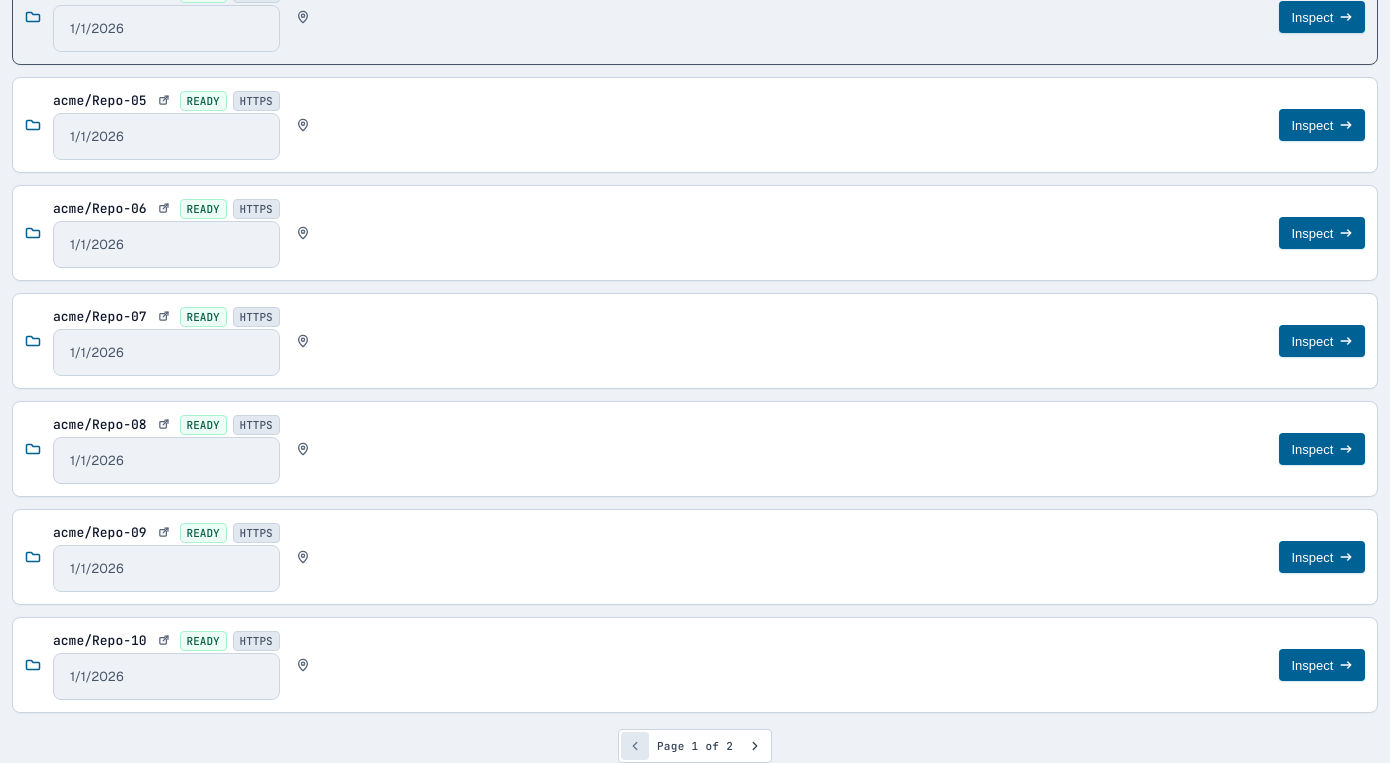
Test: ProjectList › paginates ten projects per page
(page scrolled)
Expected: the text "Page 1 of 2" is shown, [657,739,733,753]
What coordinates should you click on to do the following:
click the button named "Next page"
I would click on:
 (755, 746)
Its box is [741,732,769,760].
(page scrolled)
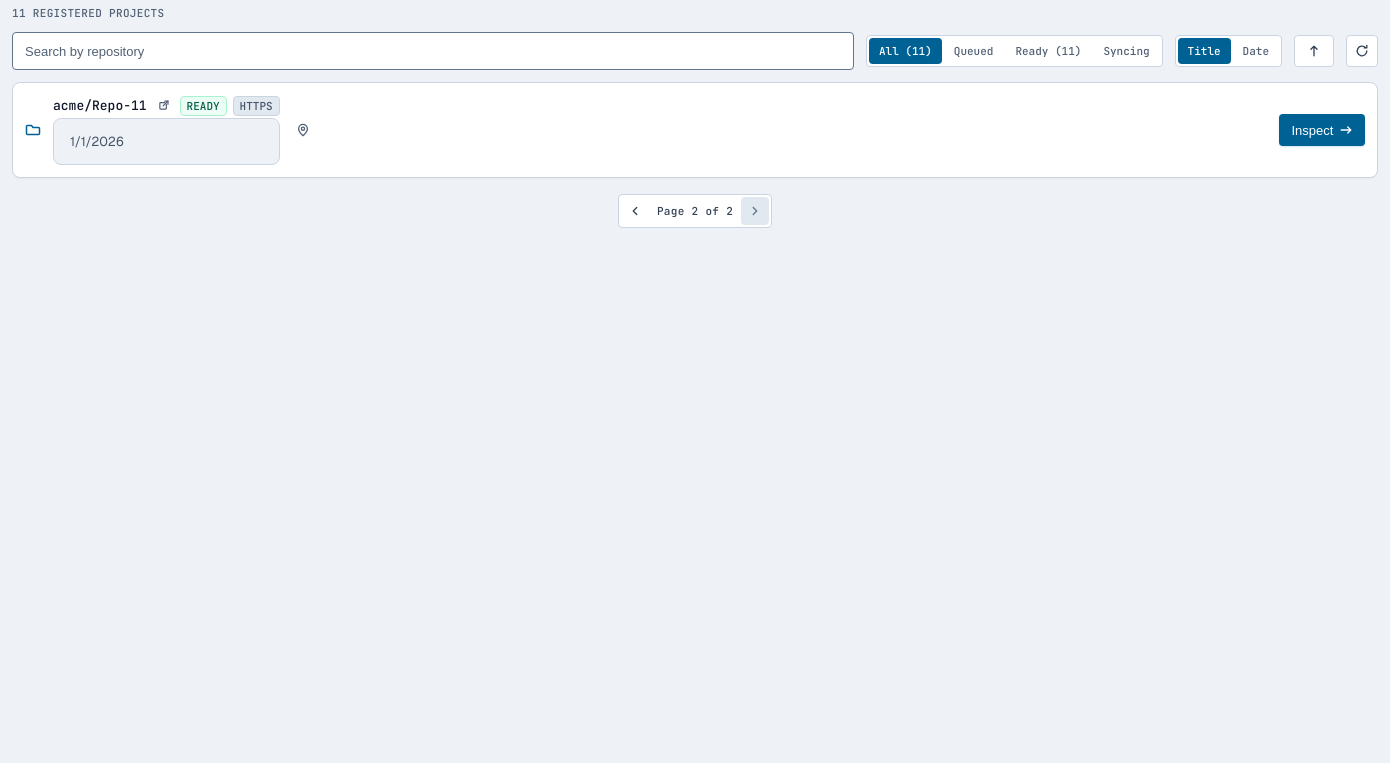
Expected: the text "Page 2 of 2" is shown, [657,204,733,218]
